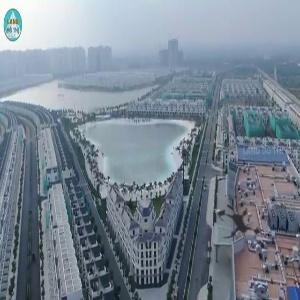drone: (193, 178, 288, 273)
